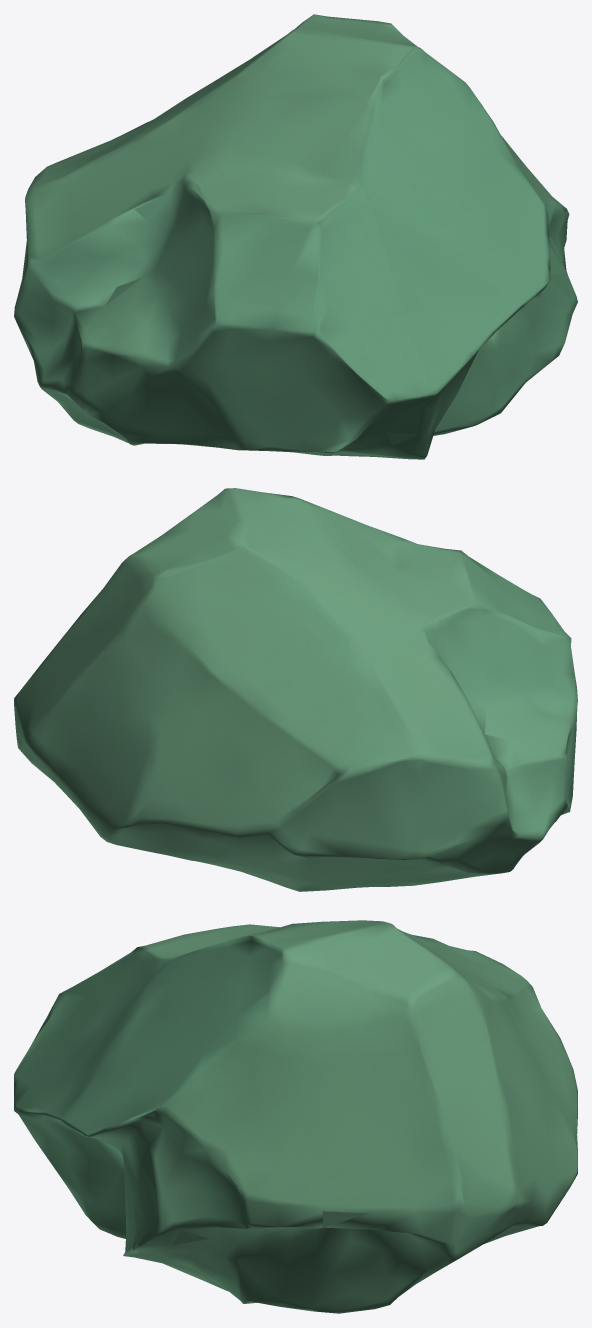
File: Meshy_AI_Emerald_Boulder_0823192128_texture.fbx
3 renders of one model, top to bottom at view 1: azimuth 30°, elevation 25°; view 2: azimuth 150°, elevation 25°; view 3: azimuth 270°, elevation 25°, orthographic. The views are drawn at different scales.
Visible parts, largest first — view 1: mesh_node; view 2: mesh_node; view 3: mesh_node.
Part boxes in pixels (x1,y1,x2,y2): mesh_node: (14, 14, 577, 459); mesh_node: (14, 488, 577, 891); mesh_node: (14, 920, 577, 1313).
Size of the model in its own units: 287 by 200 by 287.
Materials: 1 (1 with a texture image).
